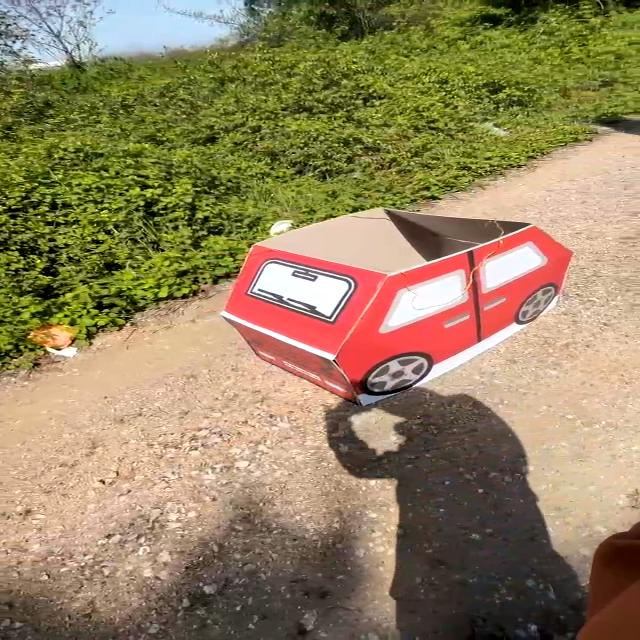red_car: (198, 198, 606, 404)
